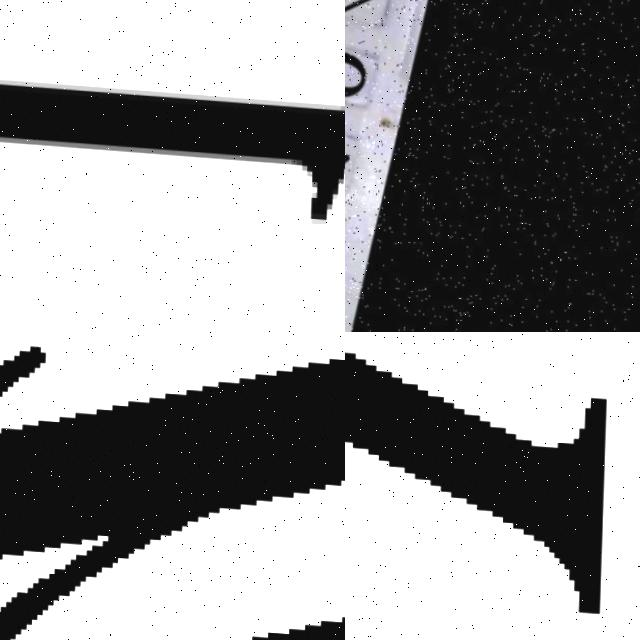1: (345, 112, 372, 199)
4: (345, 0, 405, 34)
9: (345, 26, 385, 113)
L: (0, 11, 345, 247)
U: (0, 332, 345, 640)
V: (345, 332, 635, 619)
